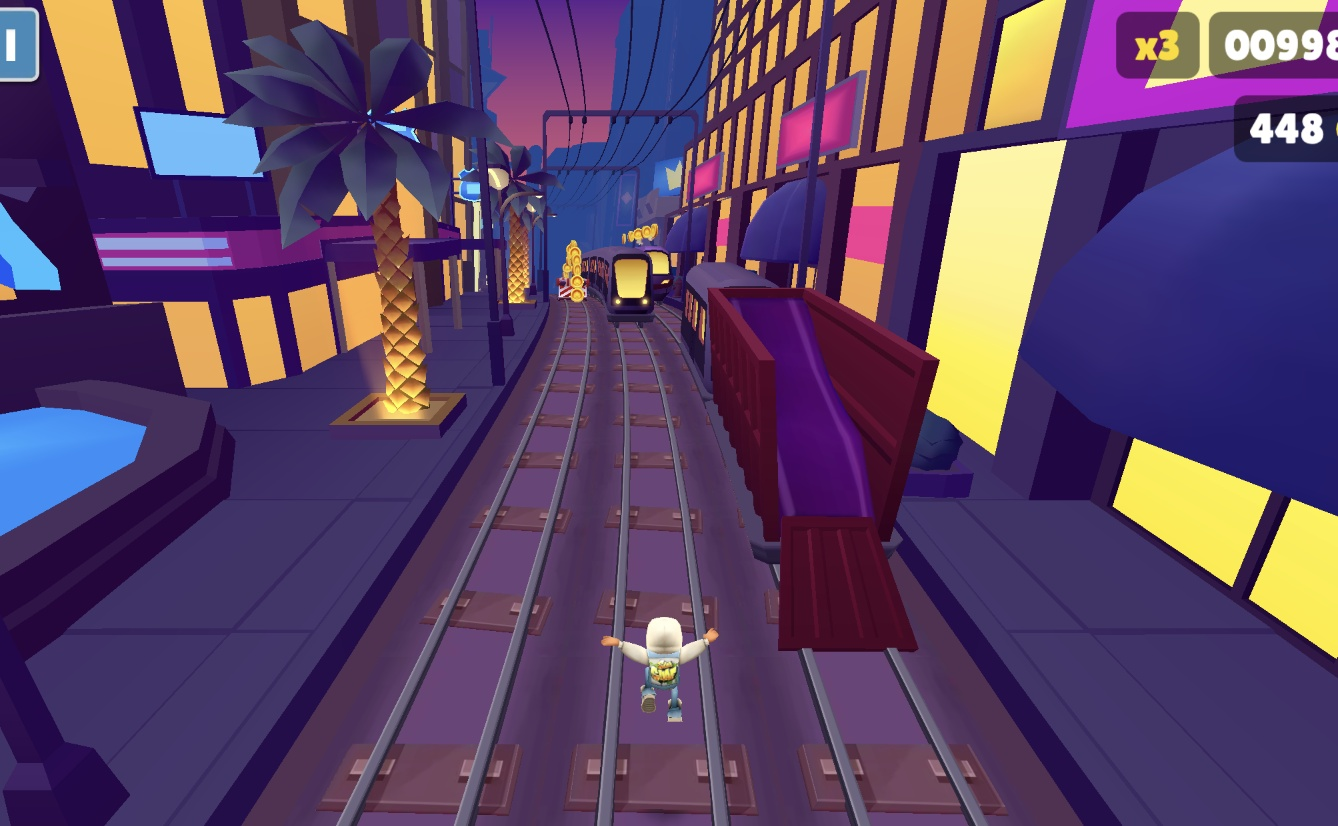ground_barrier: (556, 276, 587, 303)
train: (704, 282, 899, 649), (582, 244, 655, 324), (632, 240, 674, 300)
